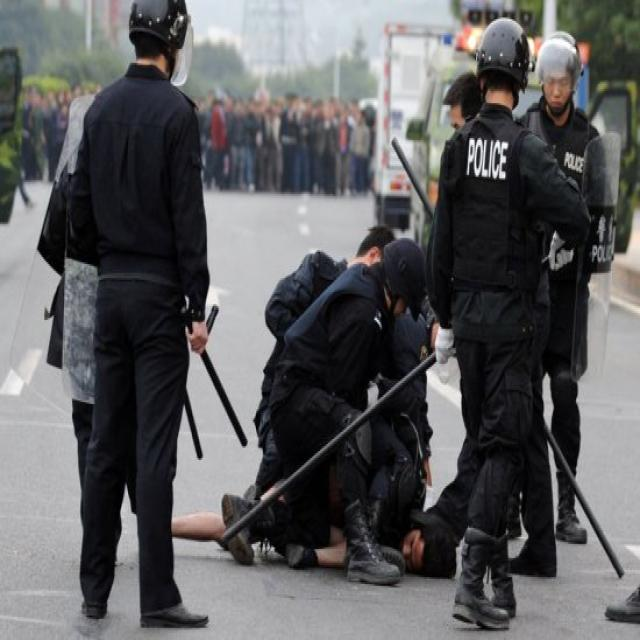10-: (6, 0, 608, 630)
down: (168, 456, 458, 590)
